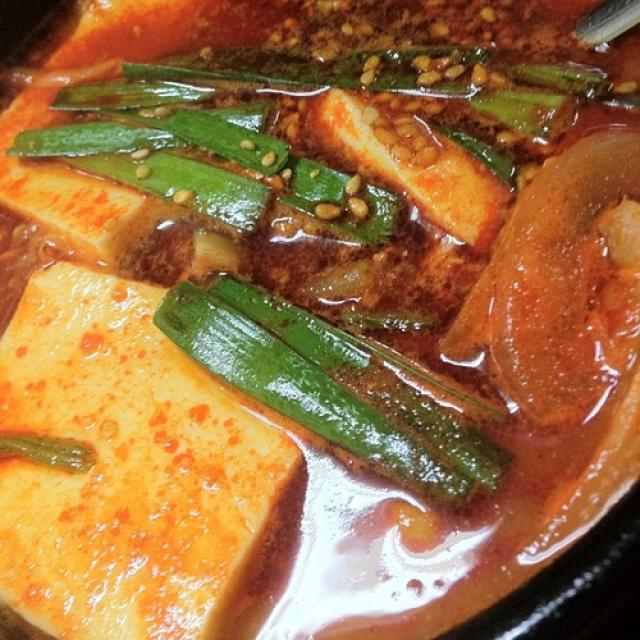汤锅炖物: (22, 39, 605, 620)
